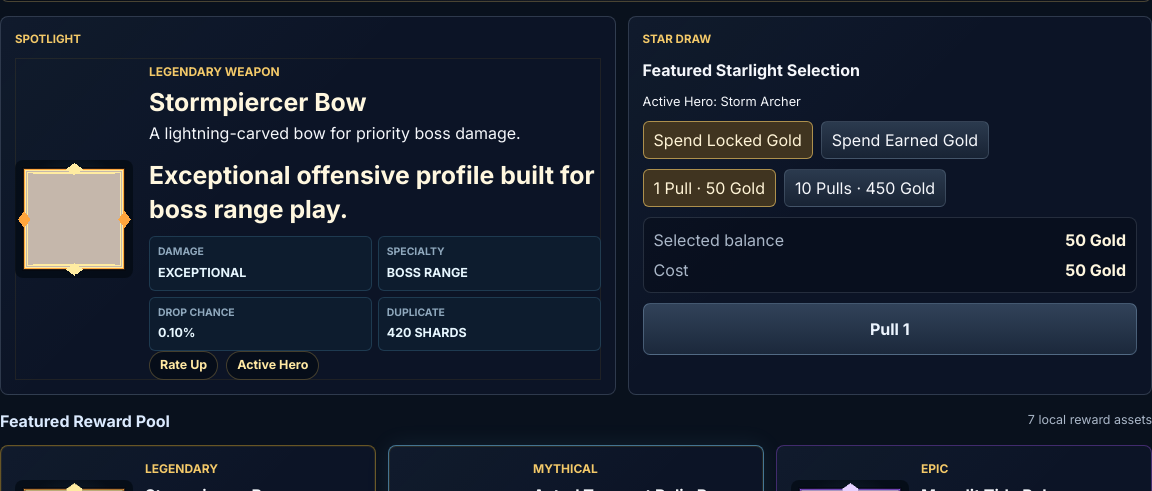
StarlightVaultPanel › requires explicit confirmation before submitting a server-authoritative Star Draw
The width and height of the screenshot is (1152, 491).
(page scrolled)
Click the button "Pull 1" at (890, 330), box left=643, top=304, right=1137, bottom=356
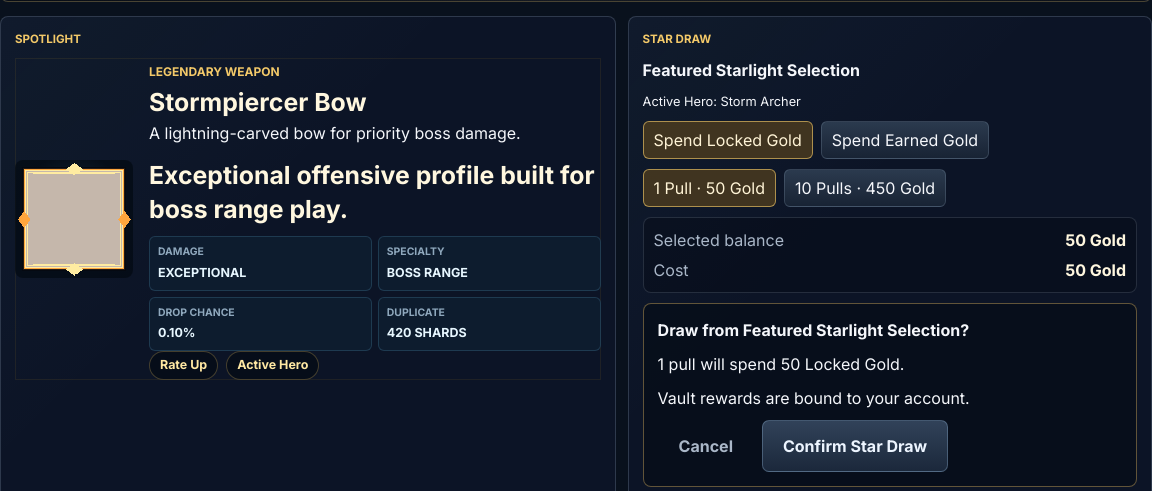
Expected: the text "Draw from Featured Starlight Selection?" is shown, left=658, top=320, right=969, bottom=340
Click the button "Confirm Star Draw" at (855, 446), box left=762, top=420, right=948, bottom=472
(page scrolled)
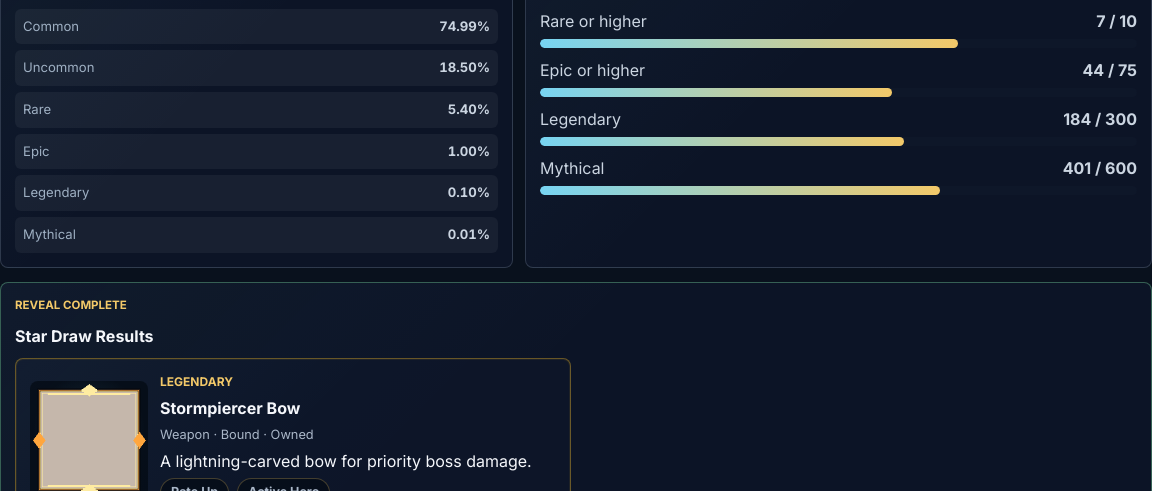
Expected: the text "Star Draw Results" is shown, left=15, top=326, right=154, bottom=346
